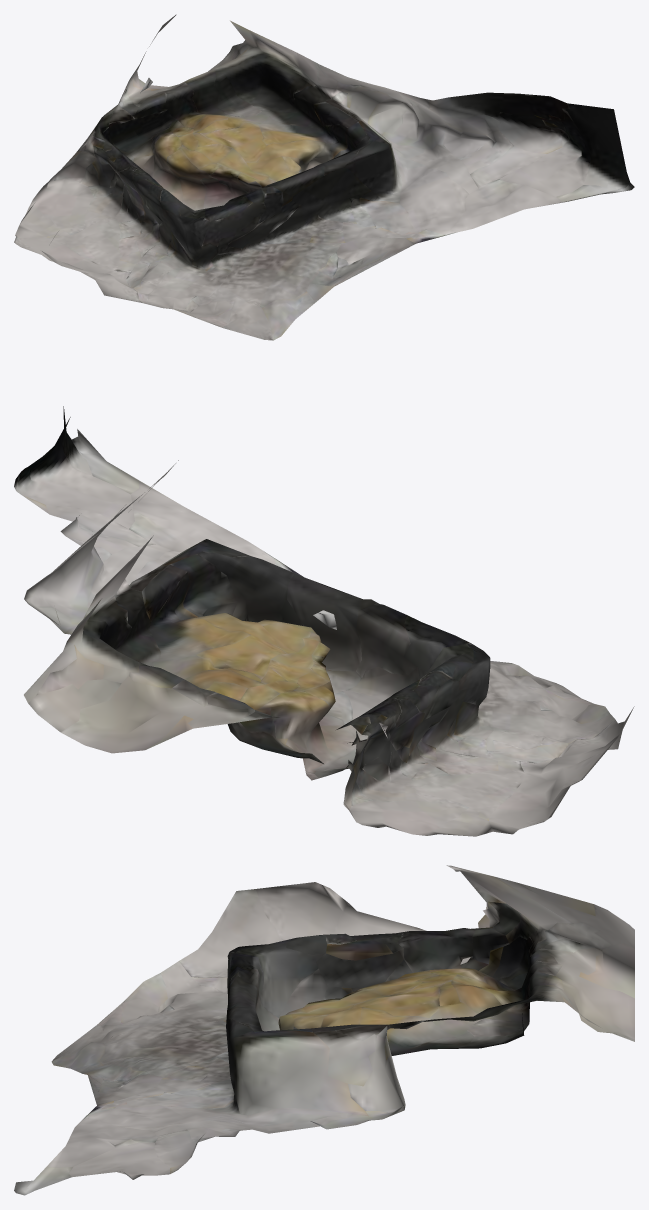
The model's file is hall.glb.
The picture shows the model from 3 angles, top to bottom: view 1: azimuth 30°, elevation 25°; view 2: azimuth 150°, elevation 25°; view 3: azimuth 270°, elevation 25°; orthographic projection. The views are drawn at different scales.
Size of the model in its own units: 1.67 by 0.5016 by 1.34.
1 material, 1 textured.
